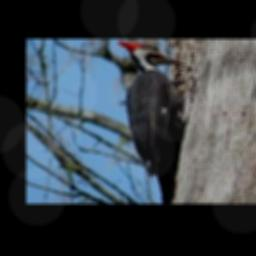Woodpecker: (118, 41, 189, 177)
